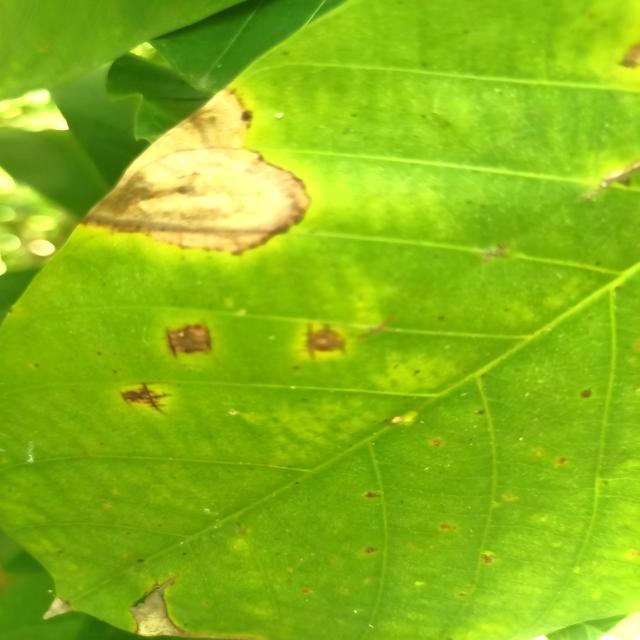Corynespora: (118, 381, 172, 415)
Leaf-Blight: (79, 87, 312, 256), (130, 591, 188, 638), (43, 597, 71, 620)
